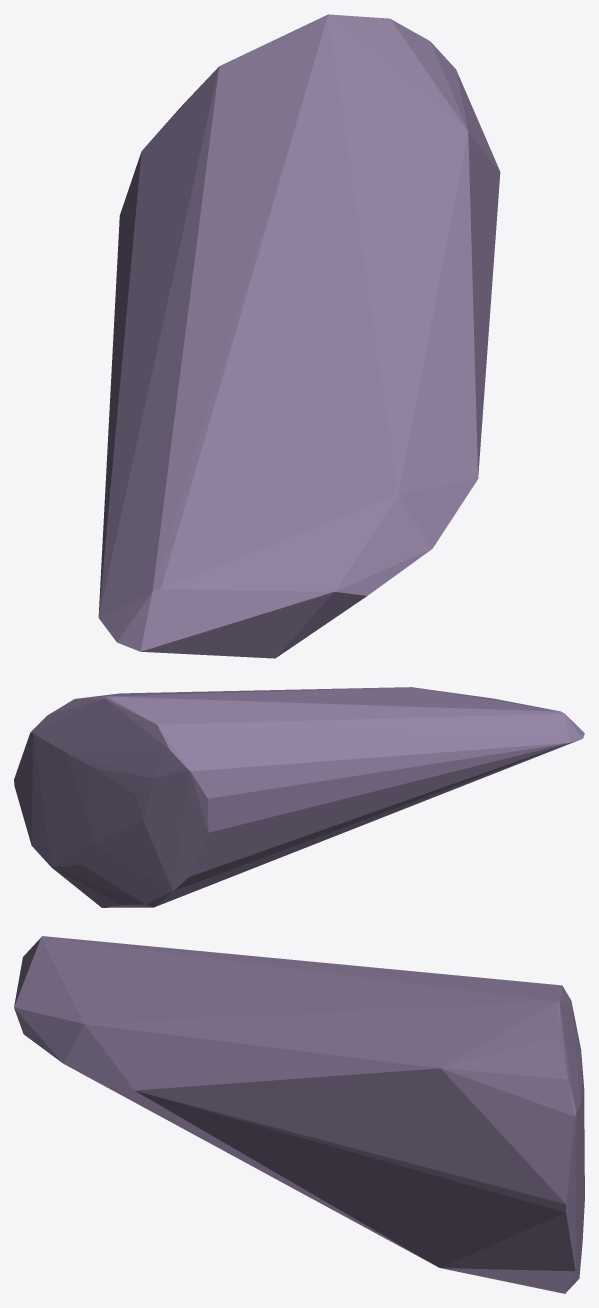
The model's file is cleaning_brush_a01.glb.
The picture shows the model from 3 angles, top to bottom: view 1: azimuth 30°, elevation 25°; view 2: azimuth 150°, elevation 25°; view 3: azimuth 270°, elevation 25°; orthographic projection. The views are drawn at different scales.
Visible parts, largest first — view 1: geometry_0; view 2: geometry_0; view 3: geometry_0.
Part boxes in pixels (x1,y1,x2,y2): geometry_0: (98,14,500,658); geometry_0: (14,687,584,907); geometry_0: (14,936,584,1293).
Size of the model in its own units: 0.4779 by 0.252 by 0.4473.
